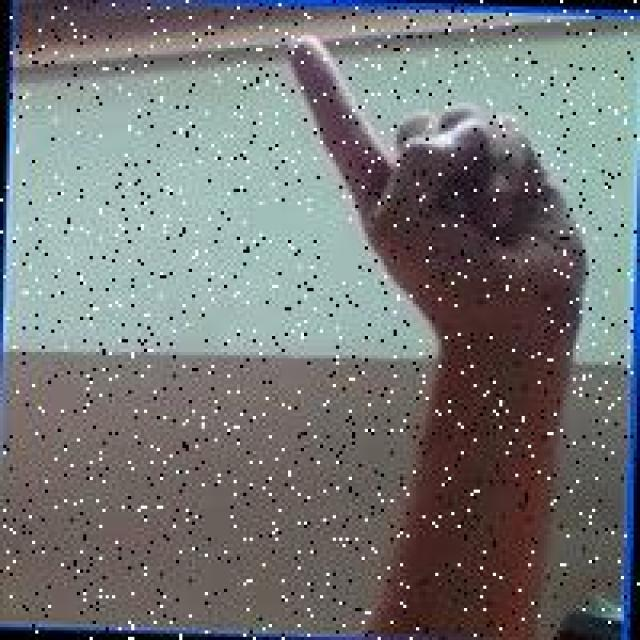Z: (274, 31, 590, 363)
